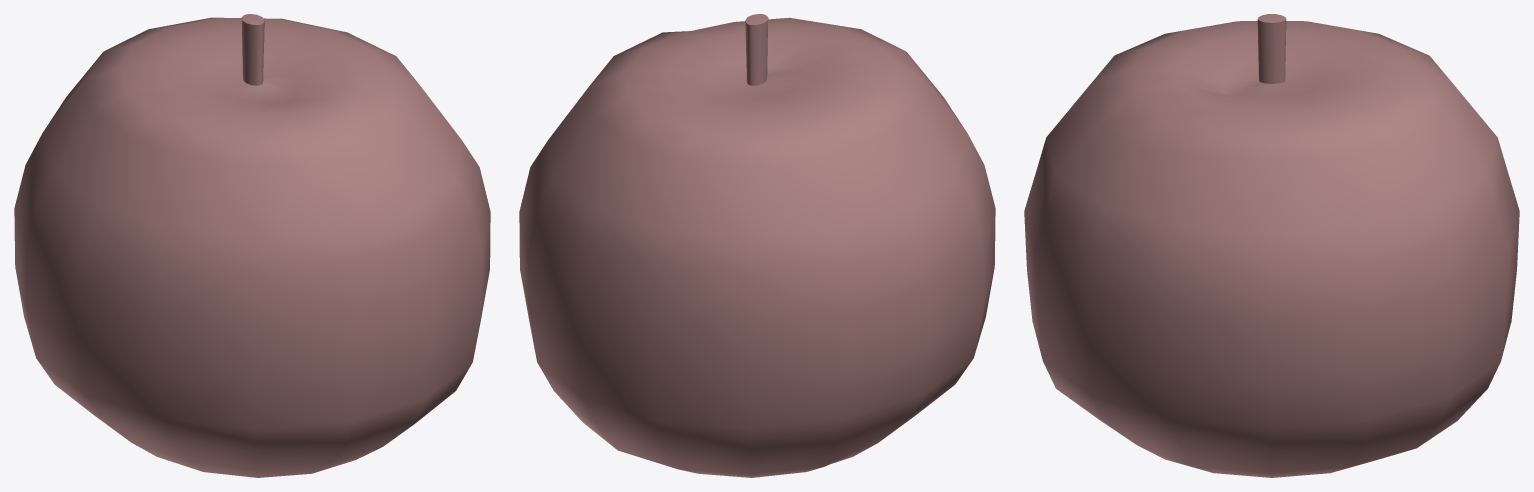
The model's file is apple_001.fbx.
The picture shows the model from 3 angles, left to right: view 1: azimuth 30°, elevation 25°; view 2: azimuth 150°, elevation 25°; view 3: azimuth 270°, elevation 25°; orthographic projection.
Visible parts, largest first — view 1: apple; view 2: apple; view 3: apple.
Part boxes in pixels (<box>): apple: <box>14,14,490,477</box>; apple: <box>519,14,995,477</box>; apple: <box>1024,14,1519,477</box>.
Size of the model in its own units: 25.61 by 24.68 by 26.79.
